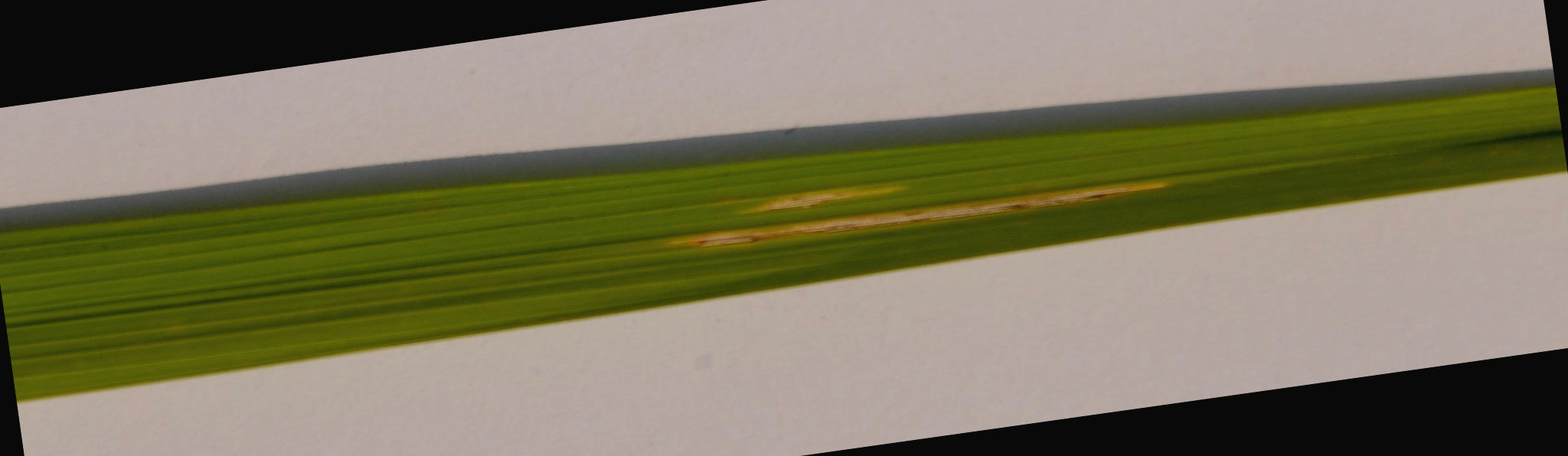Leaf_Blast: (616, 143, 1220, 240)
